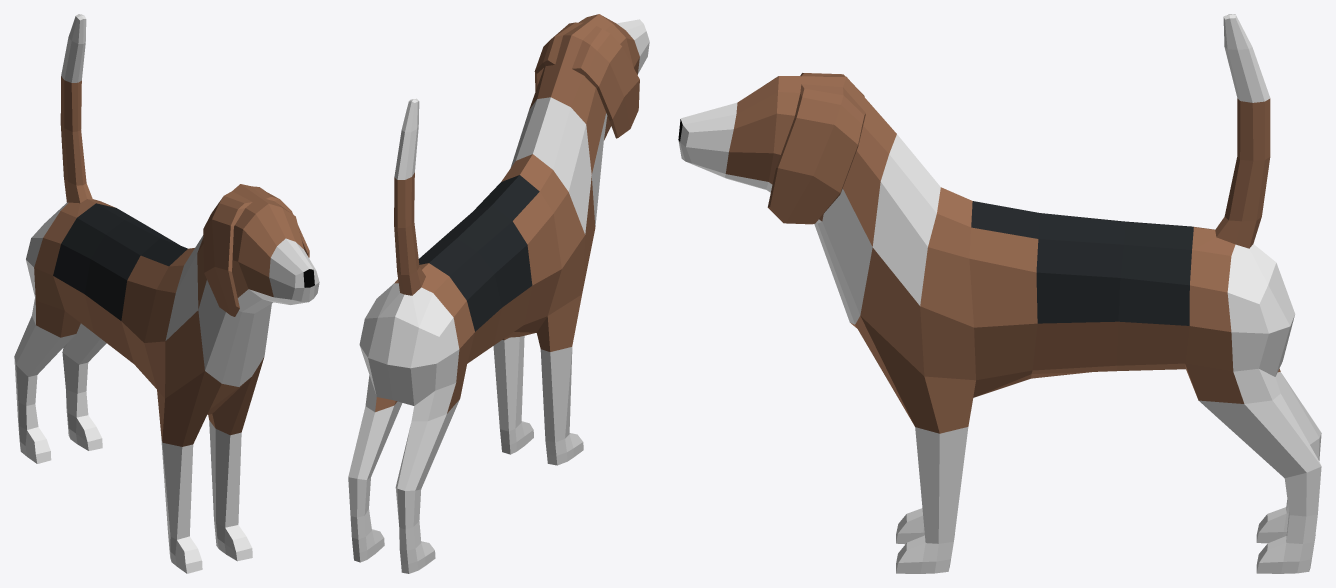
Rendered from beagle_free_model.glb.
3 renders of one model, left to right at view 1: azimuth 30°, elevation 25°; view 2: azimuth 150°, elevation 25°; view 3: azimuth 270°, elevation 25°, orthographic. The views are drawn at different scales.
Parts seen in each view (by area): view 1: 20dogFinal; view 2: 20dogFinal; view 3: 20dogFinal.
Part boxes in pixels (x1,y1,x2,y2): 20dogFinal: (14,14,319,573); 20dogFinal: (348,14,649,573); 20dogFinal: (678,14,1321,573).
Bounding box in the file's own units: 0.2364 × 1.1 × 1.18.
Materials: 1 (1 with a texture image).
